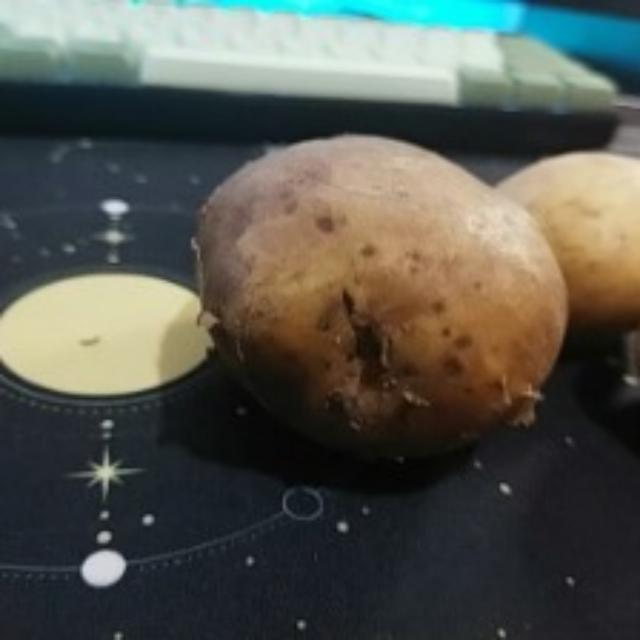Damaged potato: (192, 127, 578, 467)
Potato: (484, 147, 640, 335)
